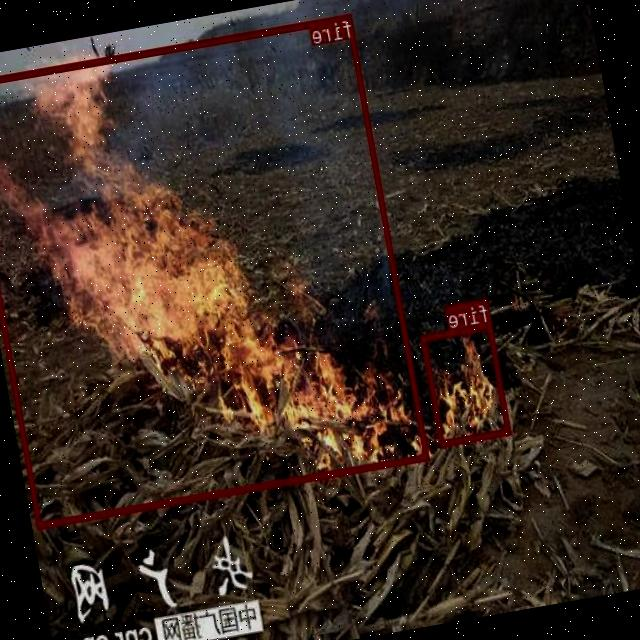fire: (0, 12, 431, 527), (421, 321, 512, 445)
